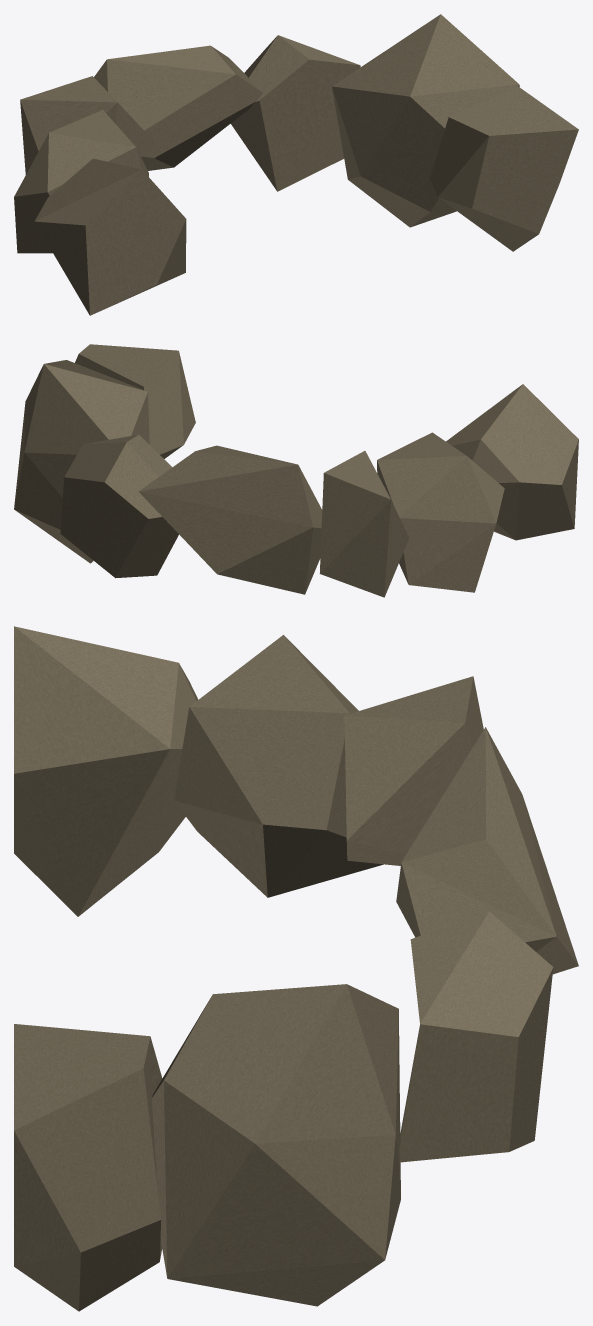
Rendered from desert_share_gate.FBX.
3 renders of one model, top to bottom at view 1: azimuth 30°, elevation 25°; view 2: azimuth 150°, elevation 25°; view 3: azimuth 270°, elevation 25°, orthographic. The views are drawn at different scales.
Parts seen in each view (by area): view 1: desert_gate; view 2: desert_gate; view 3: desert_gate.
Boxes of the visible parts, bbox=[...] form: desert_gate: bbox=[14, 14, 578, 315]; desert_gate: bbox=[14, 344, 578, 597]; desert_gate: bbox=[14, 626, 578, 1311].
Size of the model in its own units: 445 by 172 by 237.
